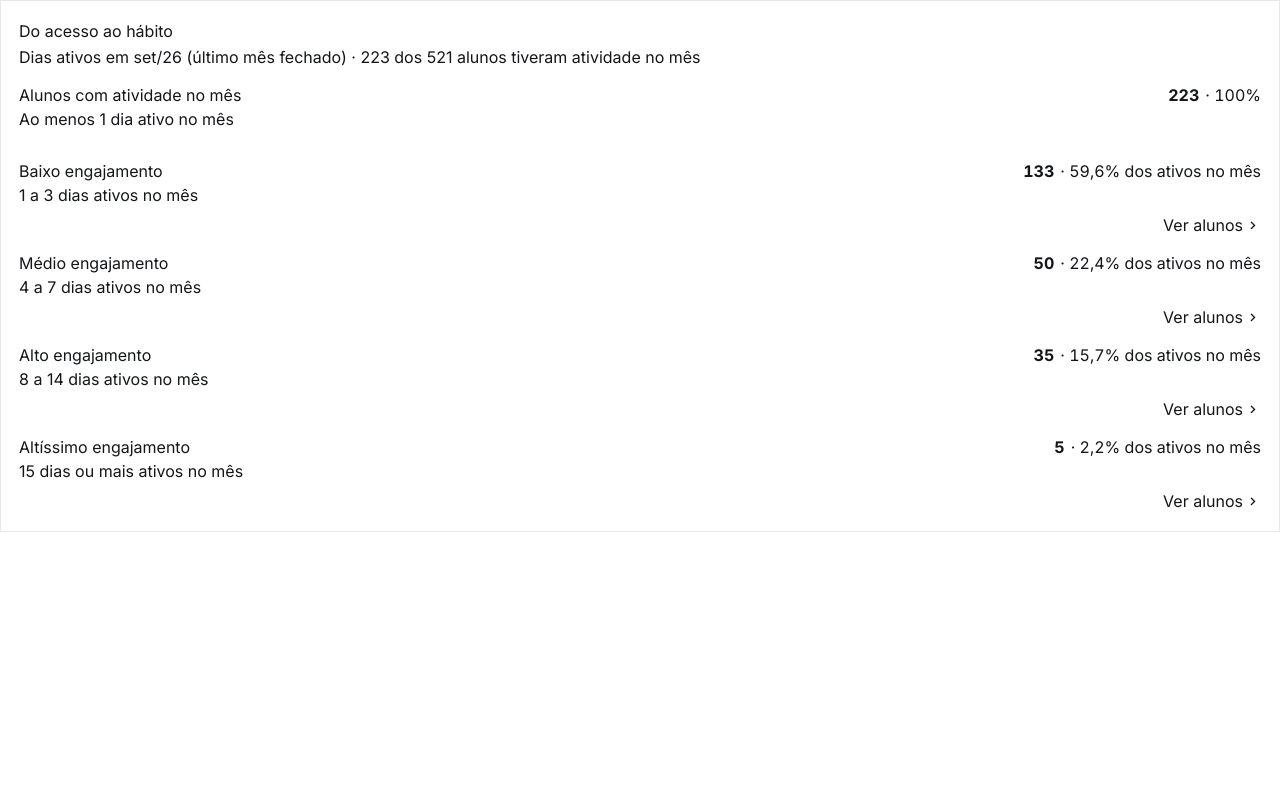
DoAcessoAoHabito — pop-up da faixa › fechar o pop-up volta ao bloco
The width and height of the screenshot is (1280, 800).
Click the button with aria-label "Médio engajamento: 50 alunos · ver lista de alunos" at [94, 263], box [11,245,1269,335]
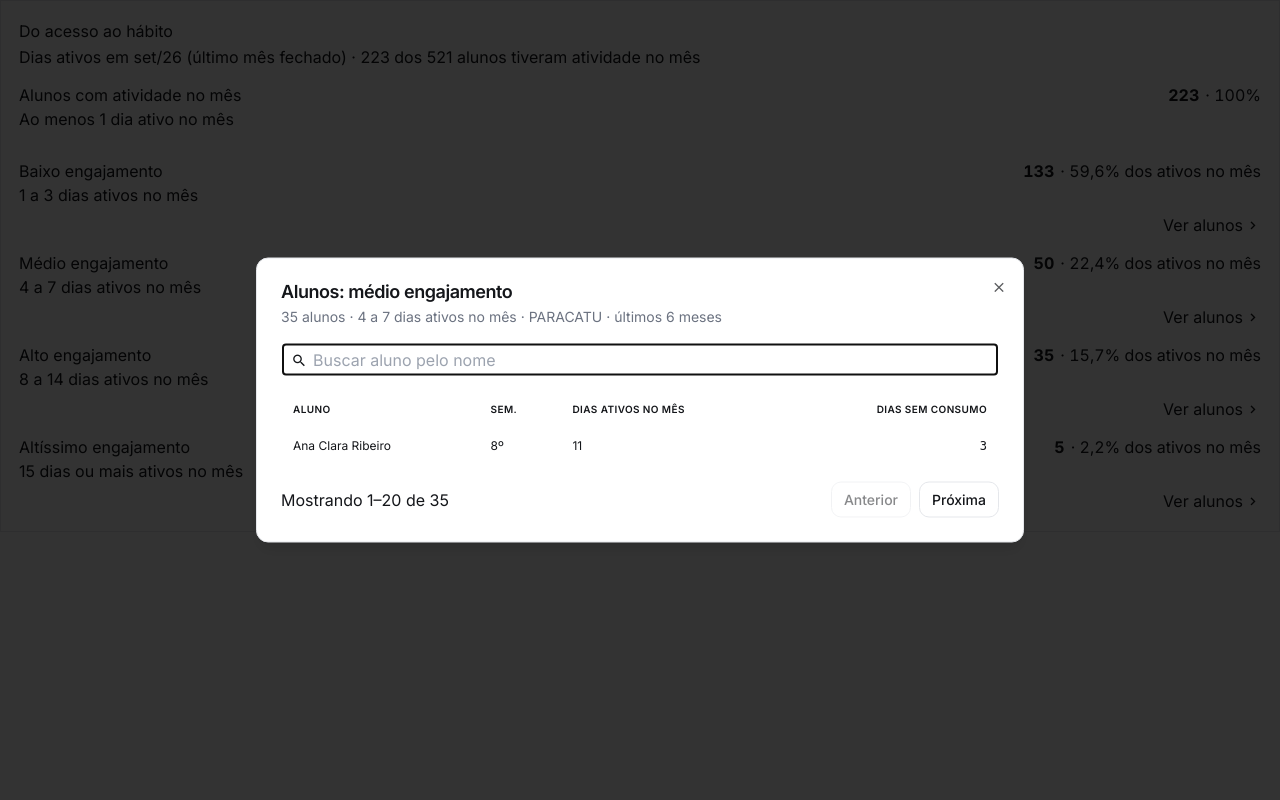
Click the button named "Fechar lista" at [999, 286], box [991,274,1007,298]
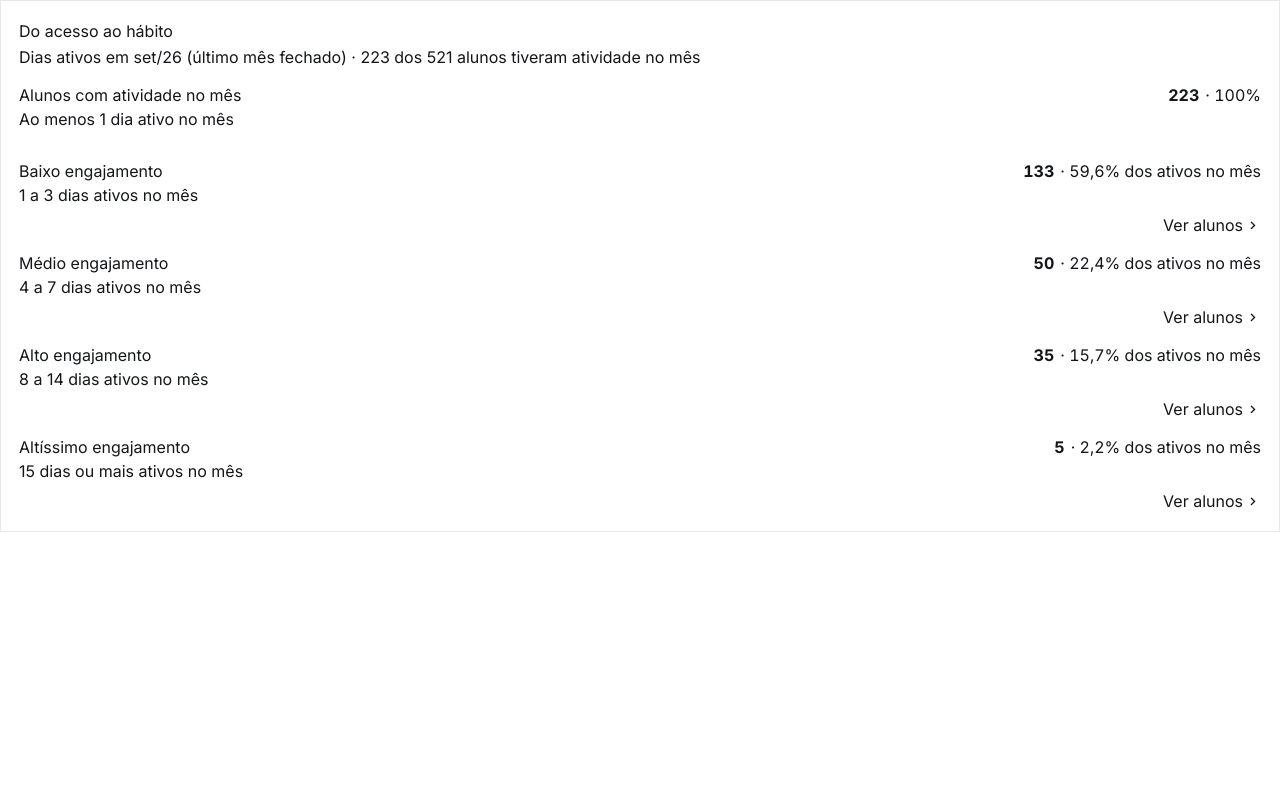
Now the dialog with test id "lista-alunos-dialog" is gone
